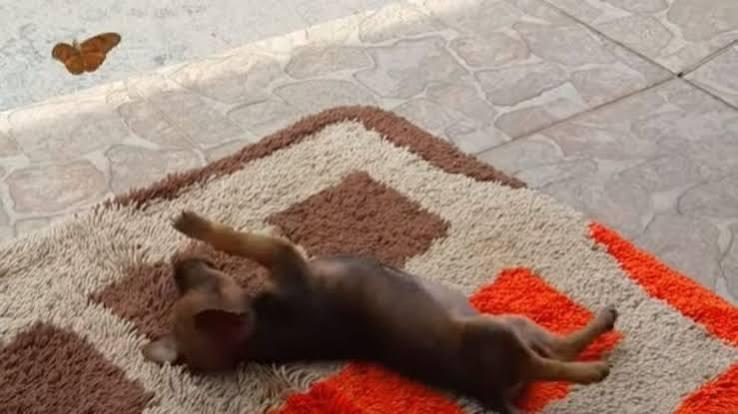puppy-dog: (140, 206, 622, 408)
